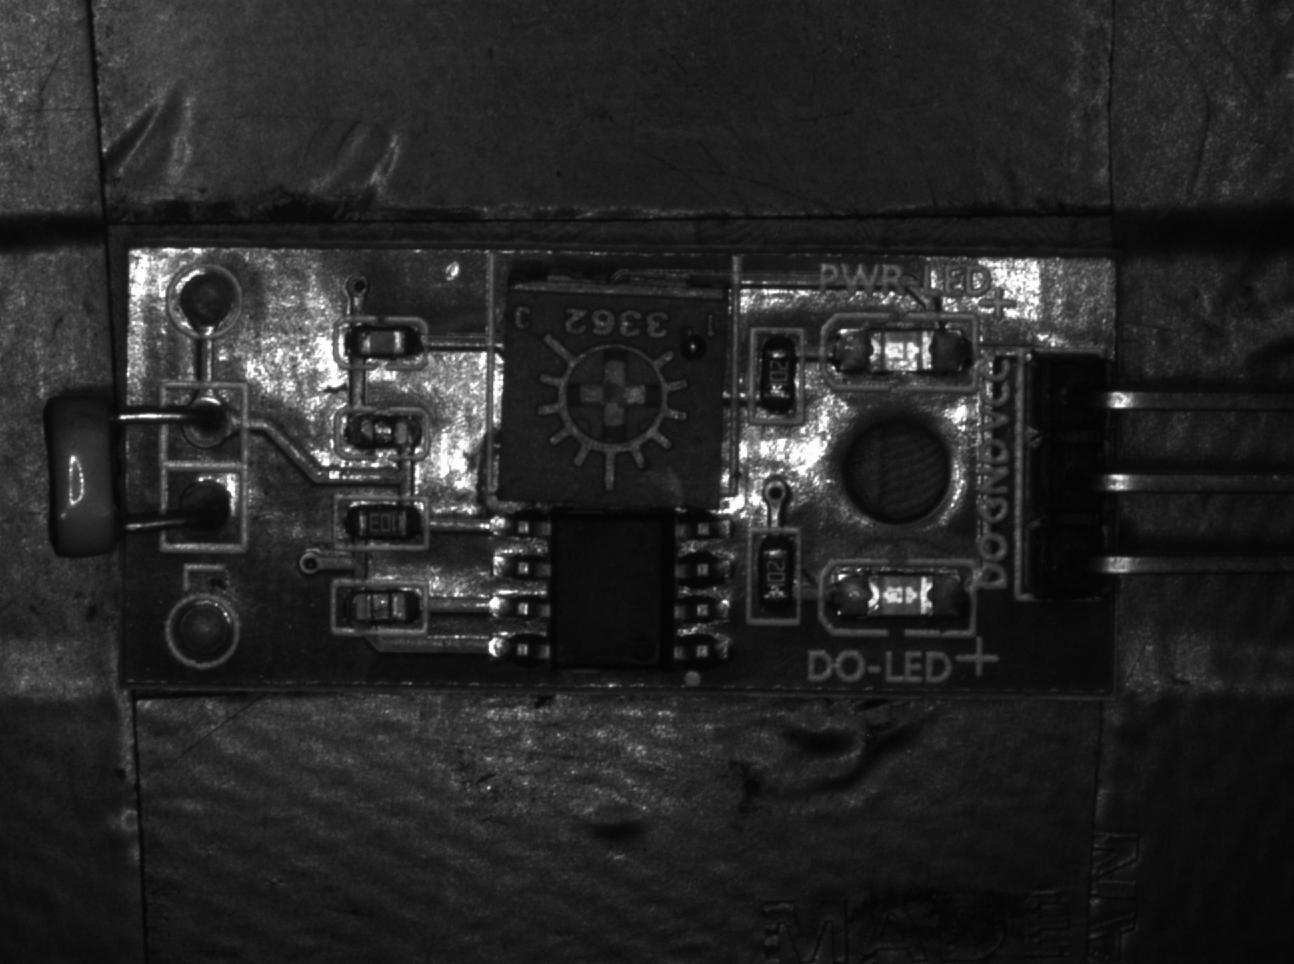miss: (335, 400, 433, 463)
ok: (745, 328, 804, 424), (331, 494, 430, 550), (331, 581, 428, 635), (749, 523, 798, 626), (334, 318, 430, 370)
